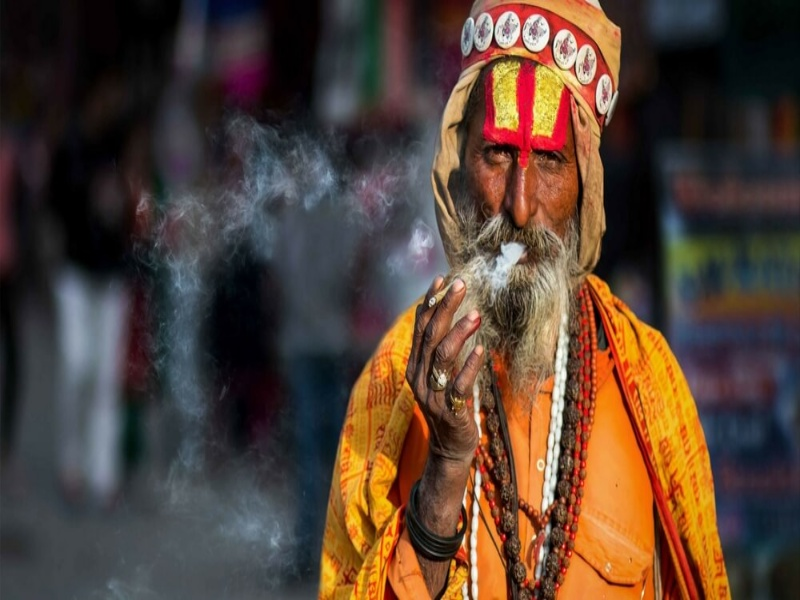smoke: (137, 131, 518, 301)
